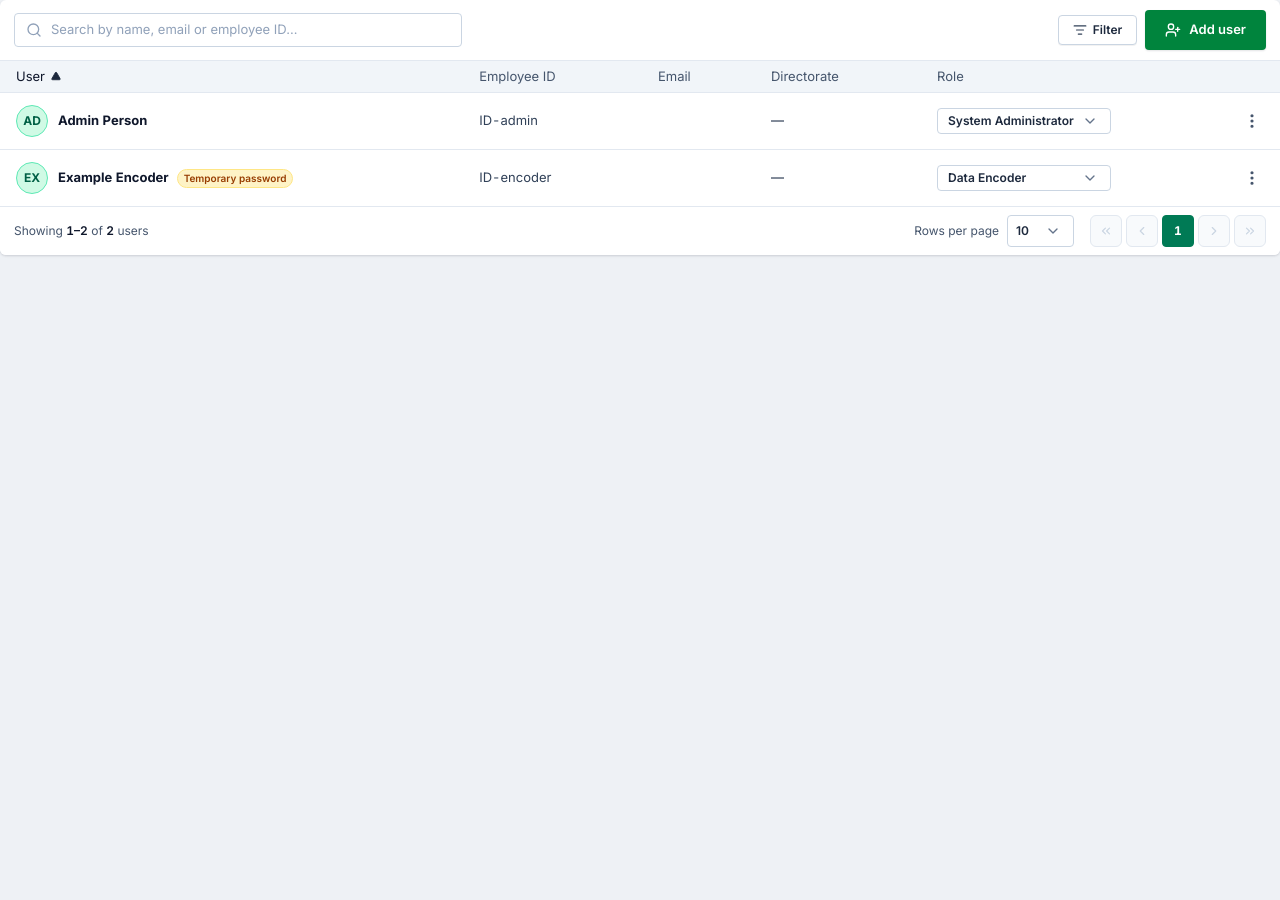
Test case: Add user: the searchable employee dropdown › explains what to do when every employee already signs in
Click the button "Add user".
click(1206, 30)  # box [1145, 10, 1266, 50]
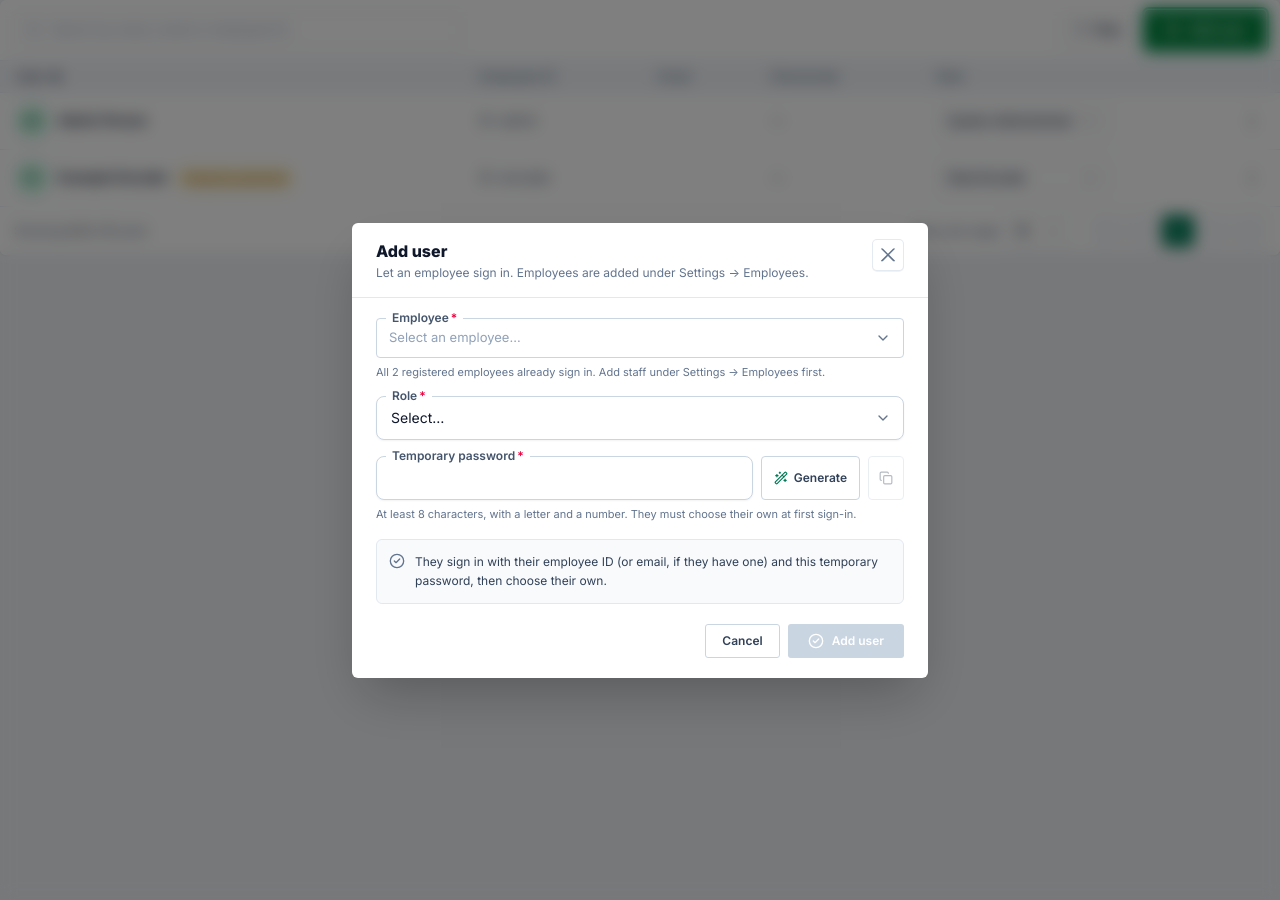
Expected: the text "All 2 registered employees already sign in" is shown, [376, 364, 825, 378]
Expected: the button "Add user" is disabled, [788, 624, 904, 658]
